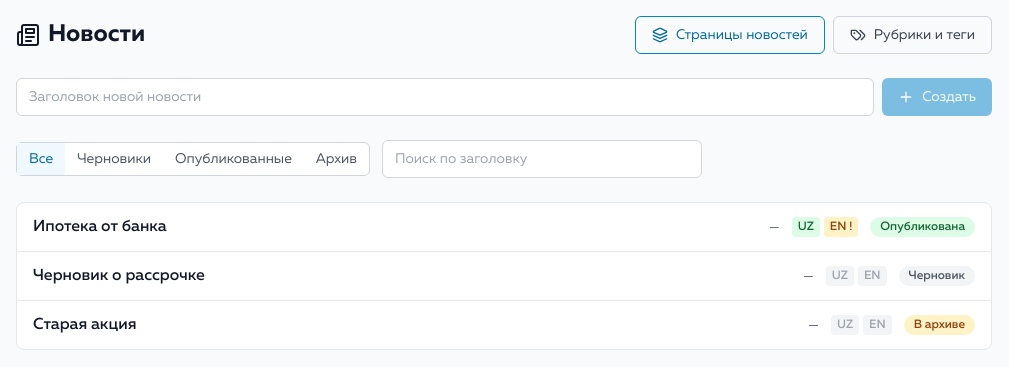
Scenario: NewsList › фильтр по статусу и поиск по заголовку
Step 1. Click the button "Архив" → (336, 159), box x1=304 y1=143 x2=369 y2=175
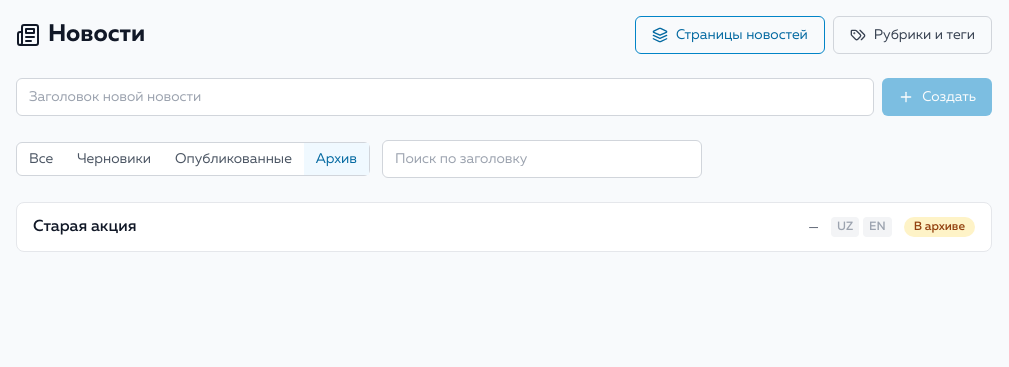
Step 2. Click the button "Все" → (41, 159), box x1=17 y1=143 x2=65 y2=175
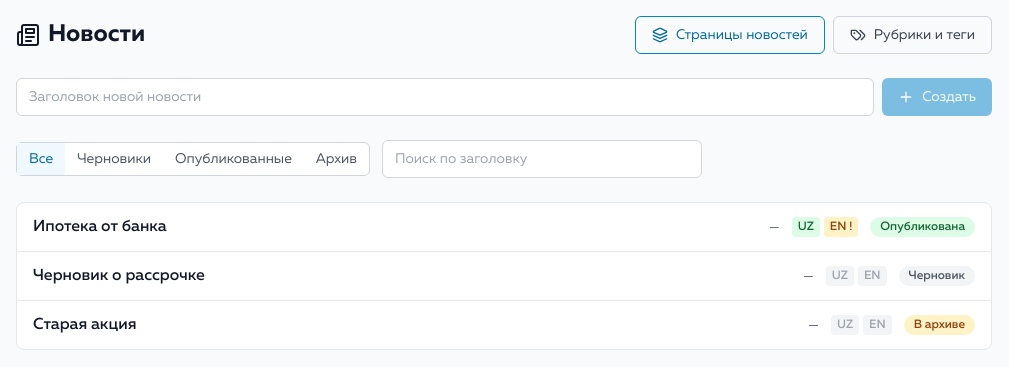
Step 3. Type "рассроч" into the field labelled "Поиск по заголовку" → (542, 159), box x1=382 y1=140 x2=702 y2=178
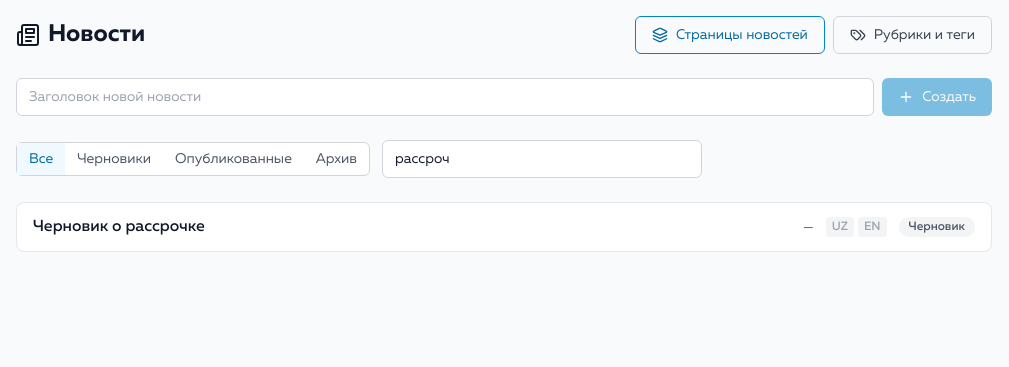
Result: the number of links with test id "news-row" is 1 at x1=33 y1=217 x2=975 y2=237
